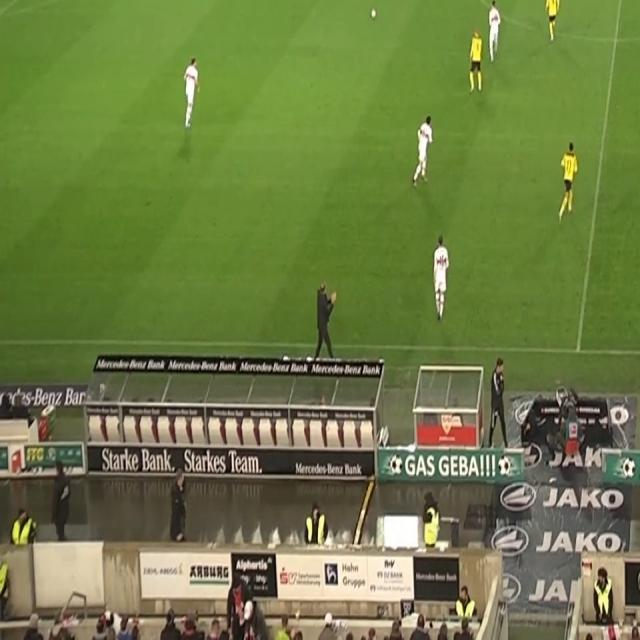ball: (371, 8, 376, 20)
